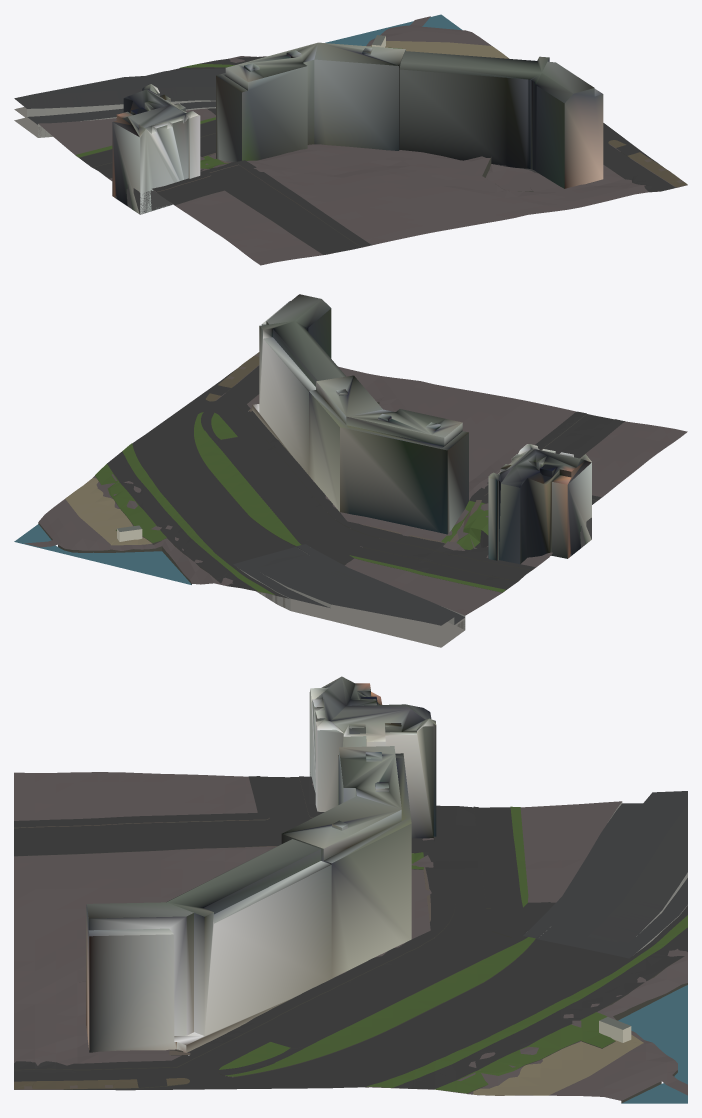
The picture shows the model from 3 angles, top to bottom: view 1: azimuth 30°, elevation 25°; view 2: azimuth 150°, elevation 25°; view 3: azimuth 270°, elevation 25°; orthographic projection. The views are drawn at different scales.
Parts seen in each view (by area): view 1: c_p03_m06, c_p03_m06_bridge_clipped_0; view 2: c_p03_m06, c_p03_m06_bridge_clipped_0; view 3: c_p03_m06, c_p03_m06_bridge_clipped_0.
Boxes of the visible parts, x1=… form: c_p03_m06: x1=14, y1=14, x2=687, y2=265; c_p03_m06_bridge_clipped_0: x1=38, y1=67, x2=225, y2=129; c_p03_m06: x1=14, y1=294, x2=687, y2=647; c_p03_m06_bridge_clipped_0: x1=224, y1=543, x2=471, y2=615; c_p03_m06: x1=14, y1=676, x2=687, y2=1103; c_p03_m06_bridge_clipped_0: x1=519, y1=801, x2=687, y2=965.
Bounding box in the file's own units: 132 × 30.96 × 128.
